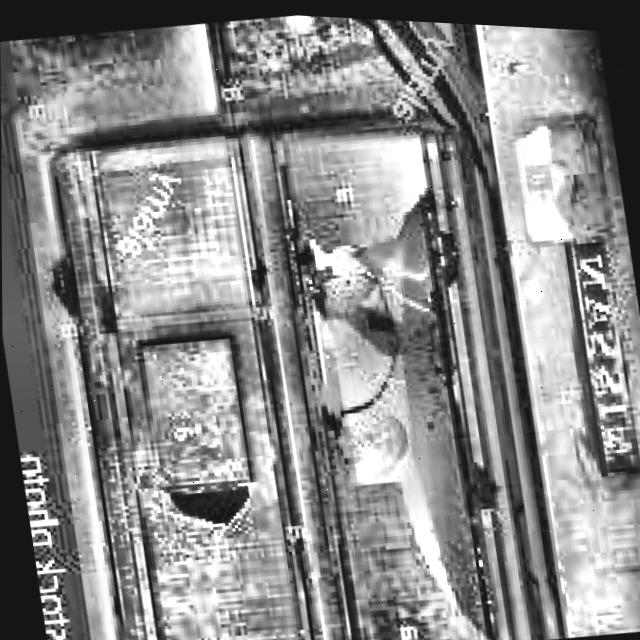tail_lamp: (283, 111, 521, 640), (116, 288, 280, 564)
